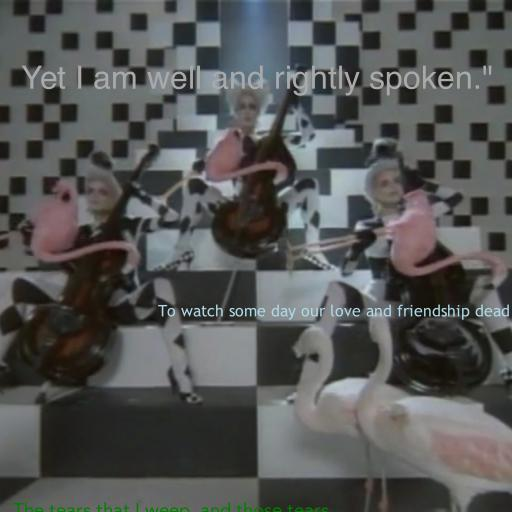Avenir: (13, 502, 329, 512)
SF Pro: (21, 65, 493, 96)
Trebuchet MS: (158, 304, 510, 320)
